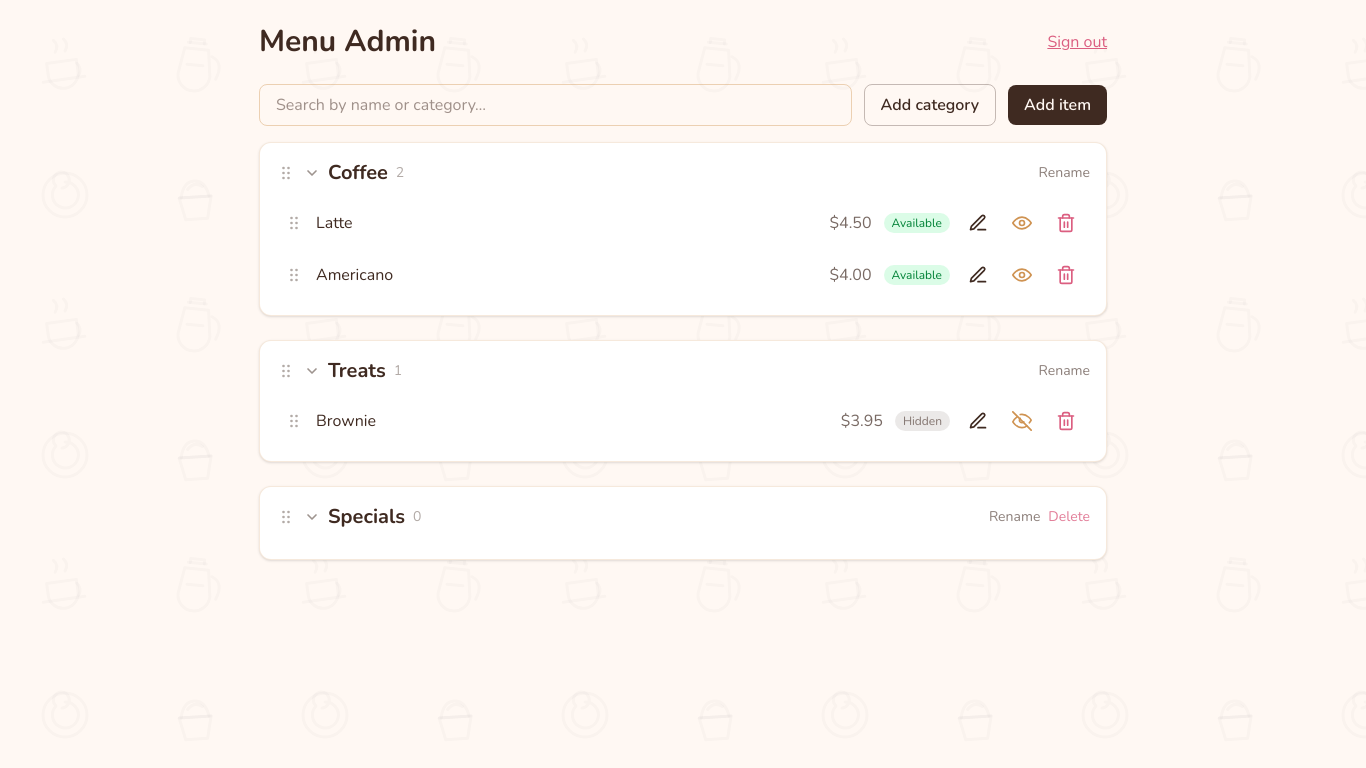
Scenario: Admin › search is find-only: filters items and disables drag handles
Type "brown" into the search field labelled "Search by name or category…" at (555, 105), box [259,84,852,126]
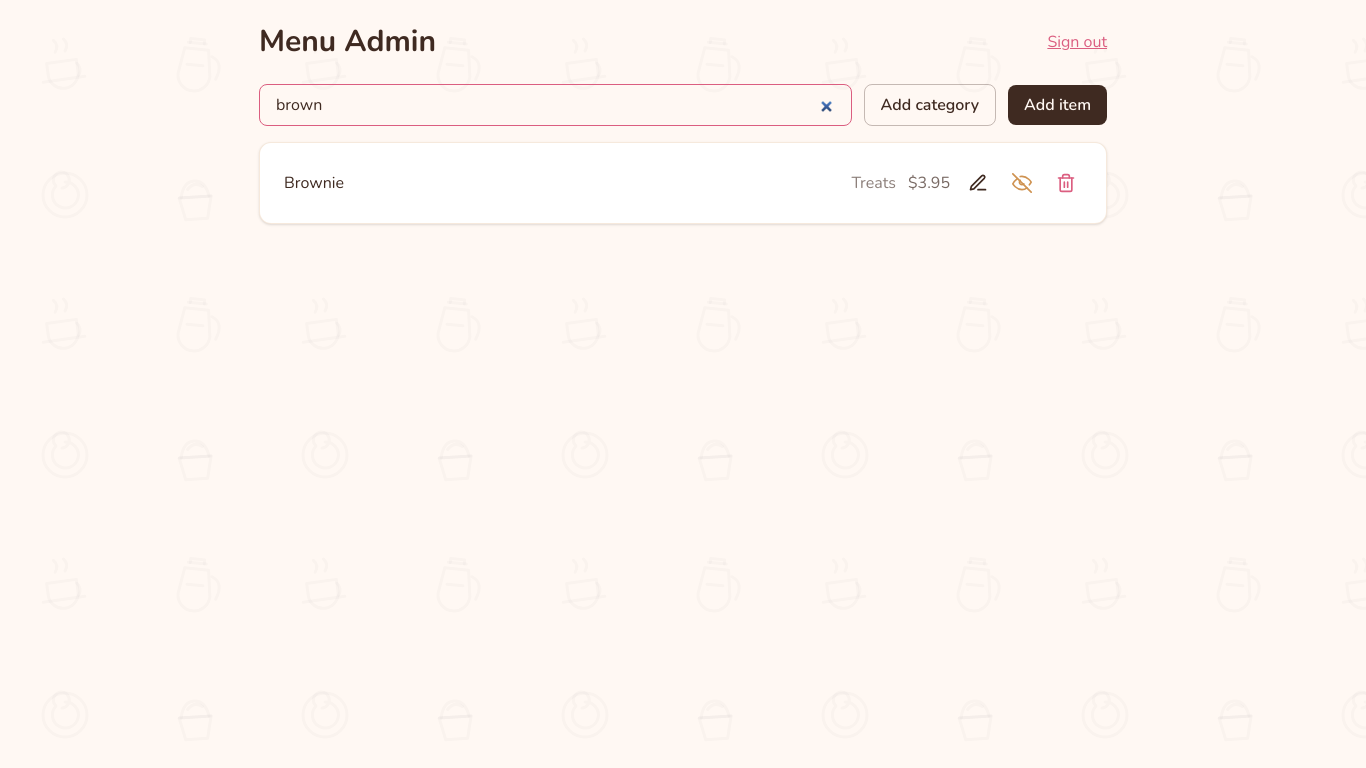
Expected: the text "Brownie" is shown, [284,172,344,194]
Result: the text "Latte" is gone
